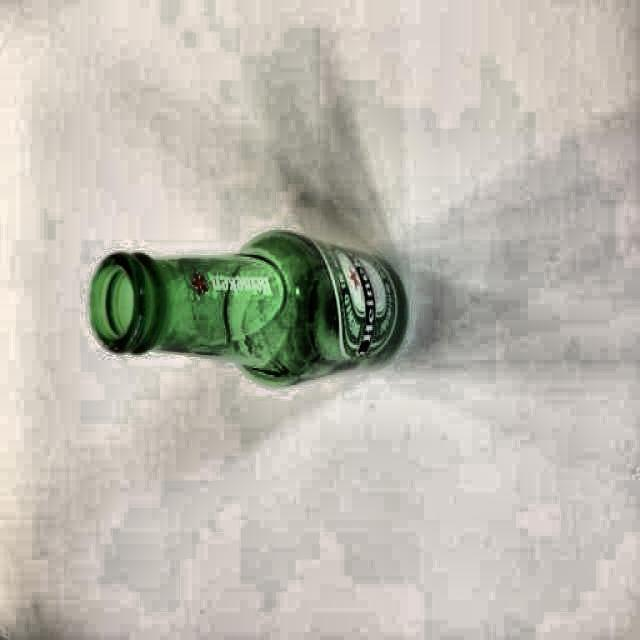glass: (87, 230, 411, 391)
